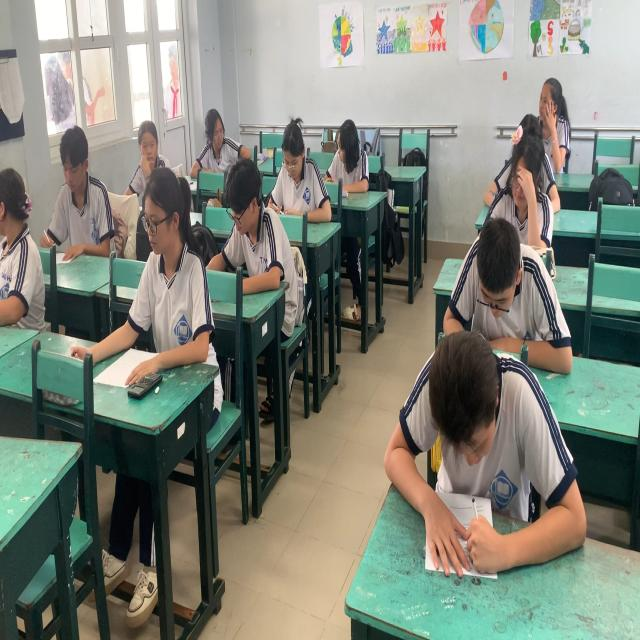cheating: (316, 95, 374, 201), (194, 104, 229, 180)
not_cheating: (373, 323, 592, 585), (136, 176, 207, 356), (456, 239, 552, 361), (56, 119, 118, 264), (219, 160, 278, 278), (276, 115, 328, 222), (530, 77, 567, 170), (503, 149, 544, 232), (126, 121, 165, 181)
